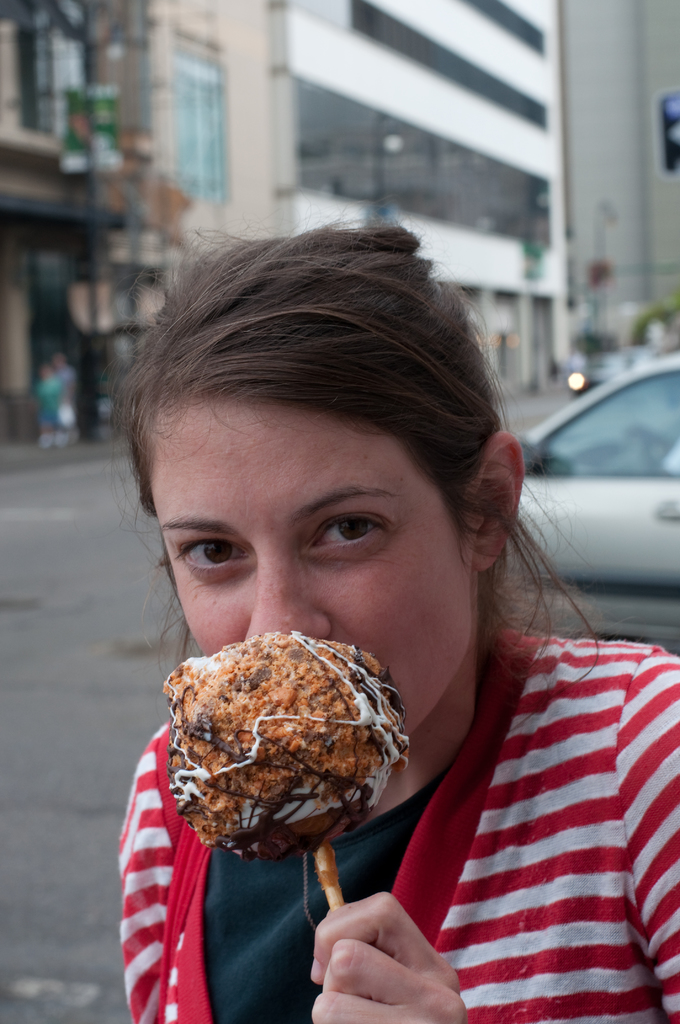Car: (526, 336, 679, 608)
